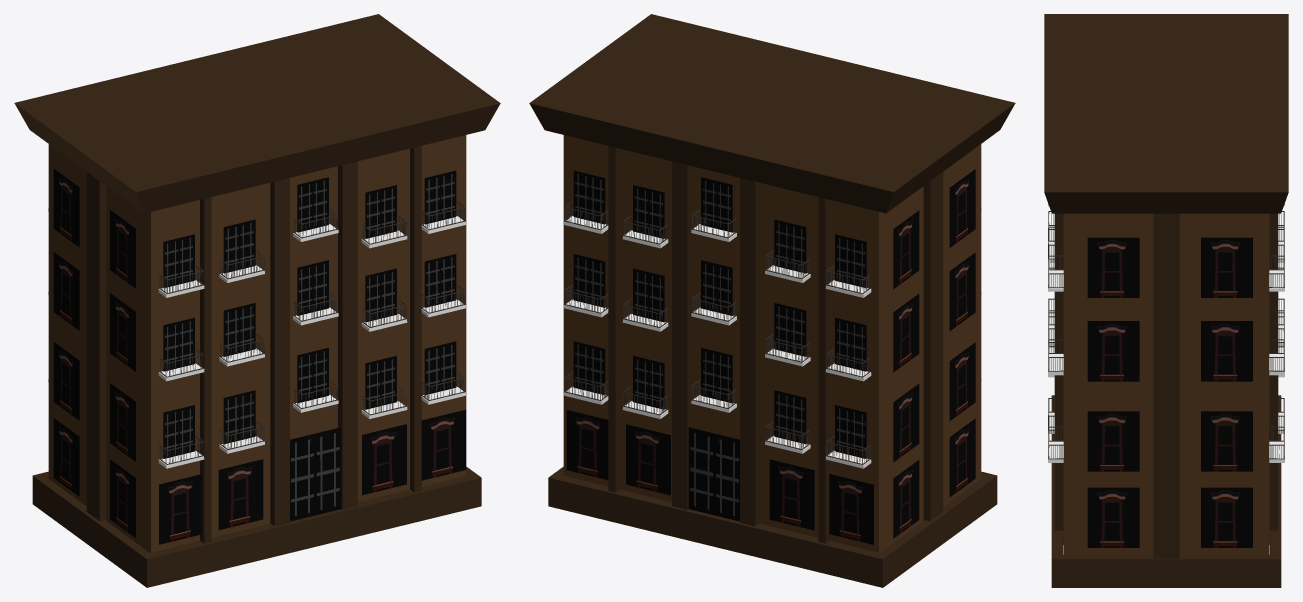
File: Building(6).fbx
3 views of the same model, side by side, from view 1: azimuth 30°, elevation 25°; view 2: azimuth 150°, elevation 25°; view 3: azimuth 270°, elevation 25° (orthographic).
Parts seen in each view (by area): view 1: Building(6); view 2: Building(6); view 3: Building(6).
Boxes of the visible parts, x1,y1,x2,y2 form: Building(6): (14, 14, 500, 587); Building(6): (529, 14, 1015, 587); Building(6): (1044, 14, 1288, 587).
Size of the model in its own units: 9.88 by 10.41 by 5.72.
